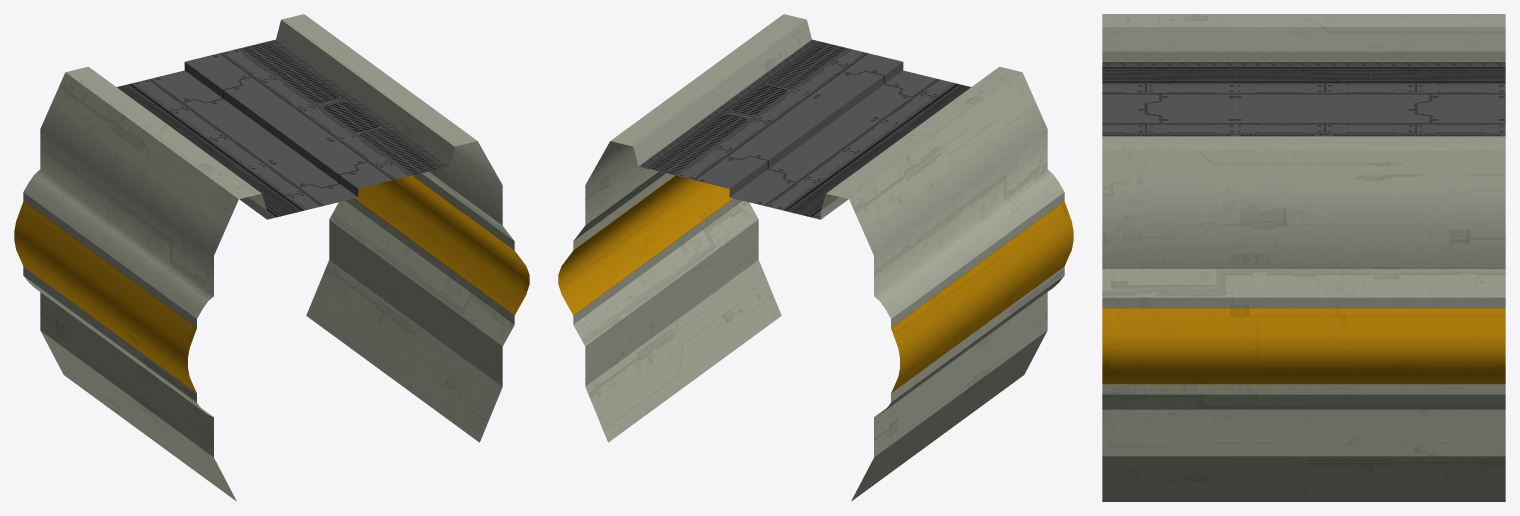
The model's file is BandaTransporteModulo.fbx.
3 renders of one model, left to right at view 1: azimuth 30°, elevation 25°; view 2: azimuth 150°, elevation 25°; view 3: azimuth 270°, elevation 25°, orthographic. The views are drawn at different scales.
Visible parts, largest first — view 1: Cube.210, Cube.209; view 2: Cube.210, Cube.209; view 3: Cube.210, Cube.209.
Boxes of the visible parts, x1=… form: Cube.210: x1=14, y1=14, x2=529, y2=501; Cube.209: x1=117, y1=39, x2=448, y2=219; Cube.210: x1=558, y1=14, x2=1073, y2=501; Cube.209: x1=639, y1=39, x2=970, y2=219; Cube.210: x1=1102, y1=14, x2=1505, y2=501; Cube.209: x1=1102, y1=61, x2=1505, y2=136.
Size of the model in its own units: 65.13 by 55.06 by 57.3.
